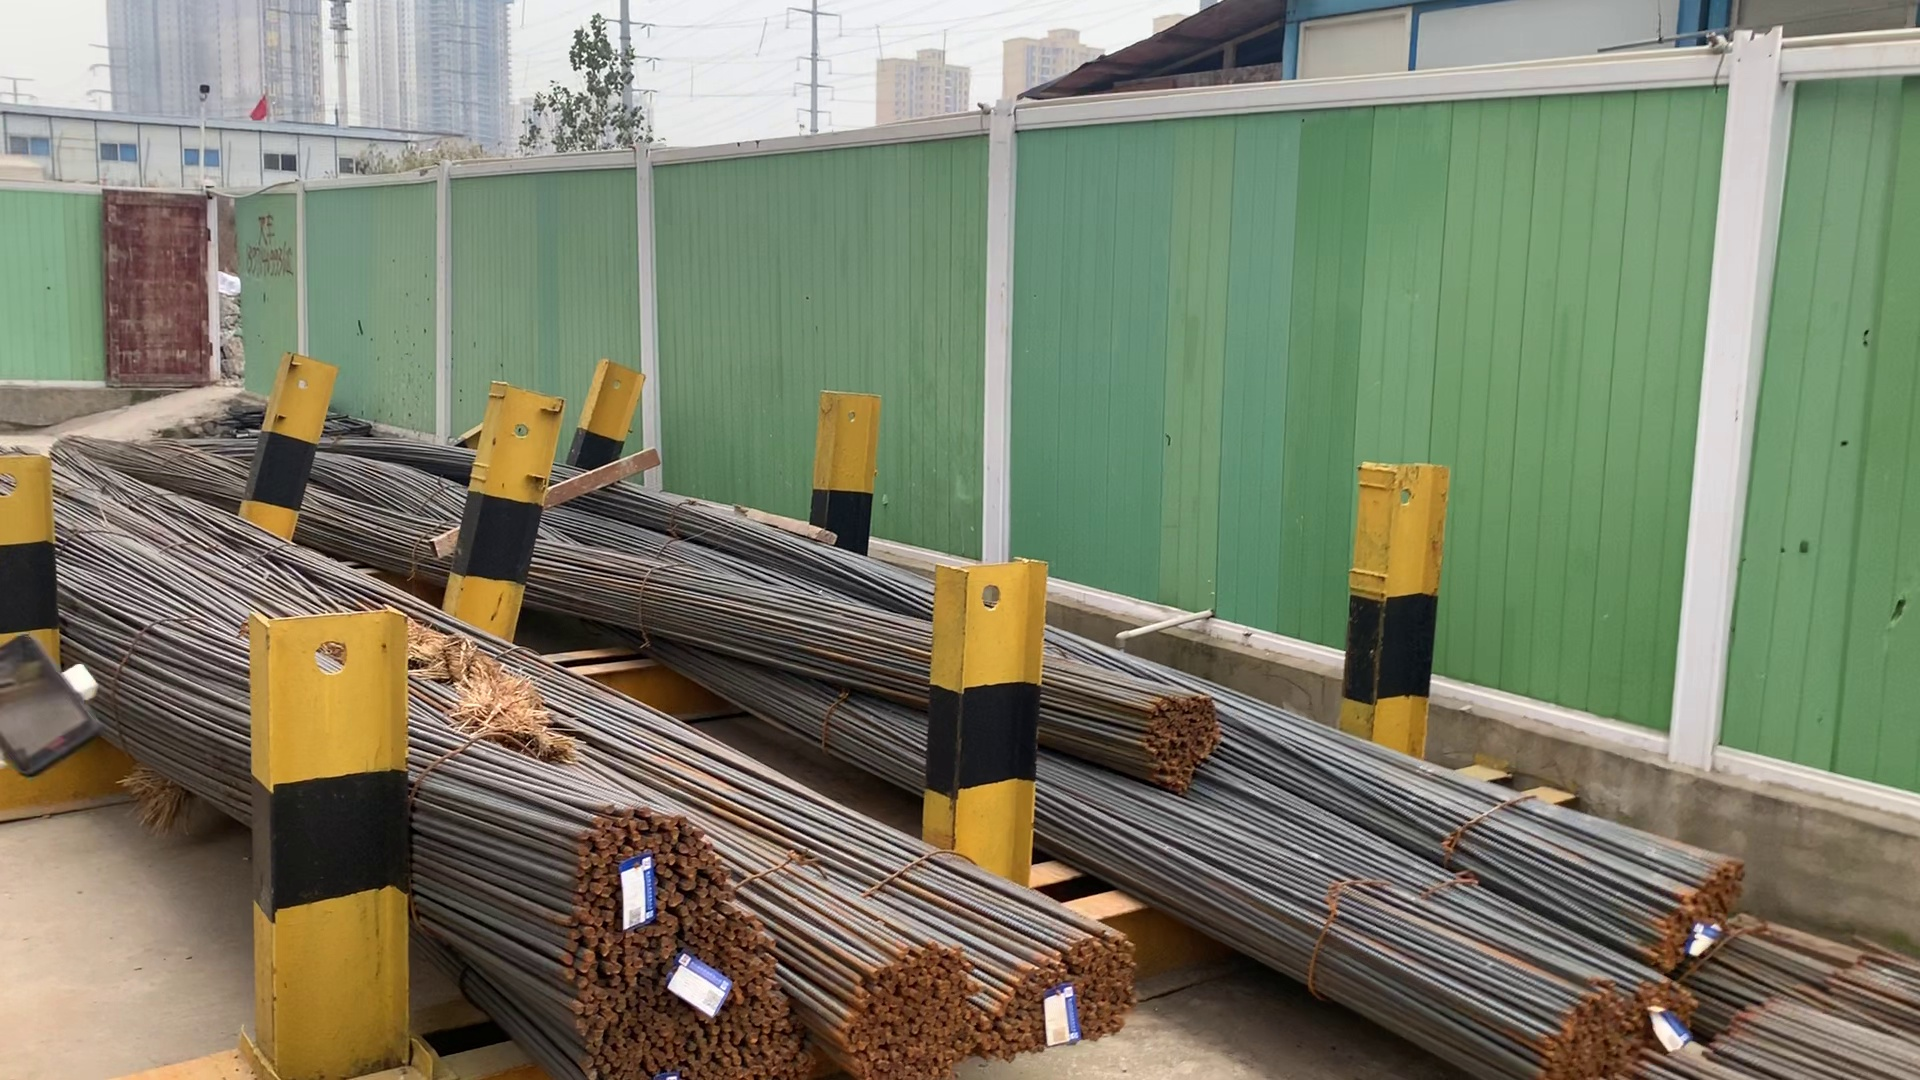rebar: (566, 799, 793, 1080), (1497, 963, 1700, 1080), (984, 913, 1131, 1048), (833, 938, 968, 1080), (1642, 849, 1742, 956), (1137, 687, 1229, 789)
